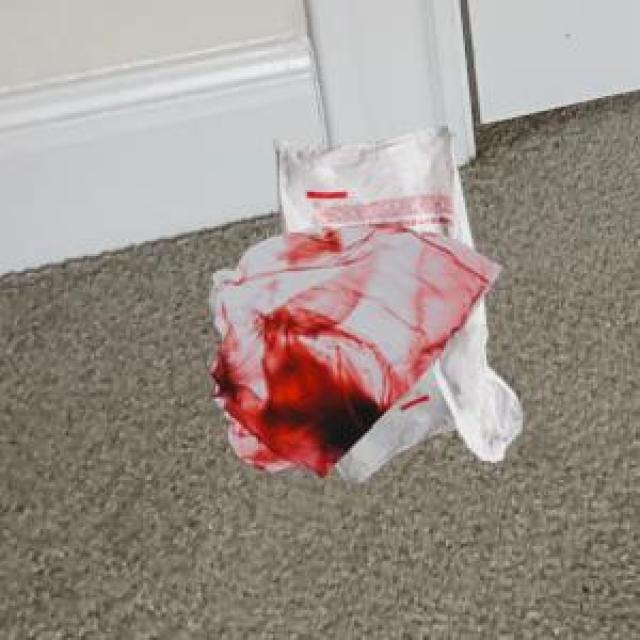plastic: (201, 123, 572, 486)
